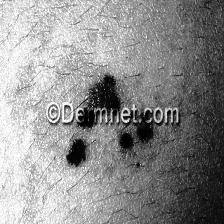Potentially Malignant Skin Tumors: (84, 76, 120, 108), (66, 138, 88, 168)
